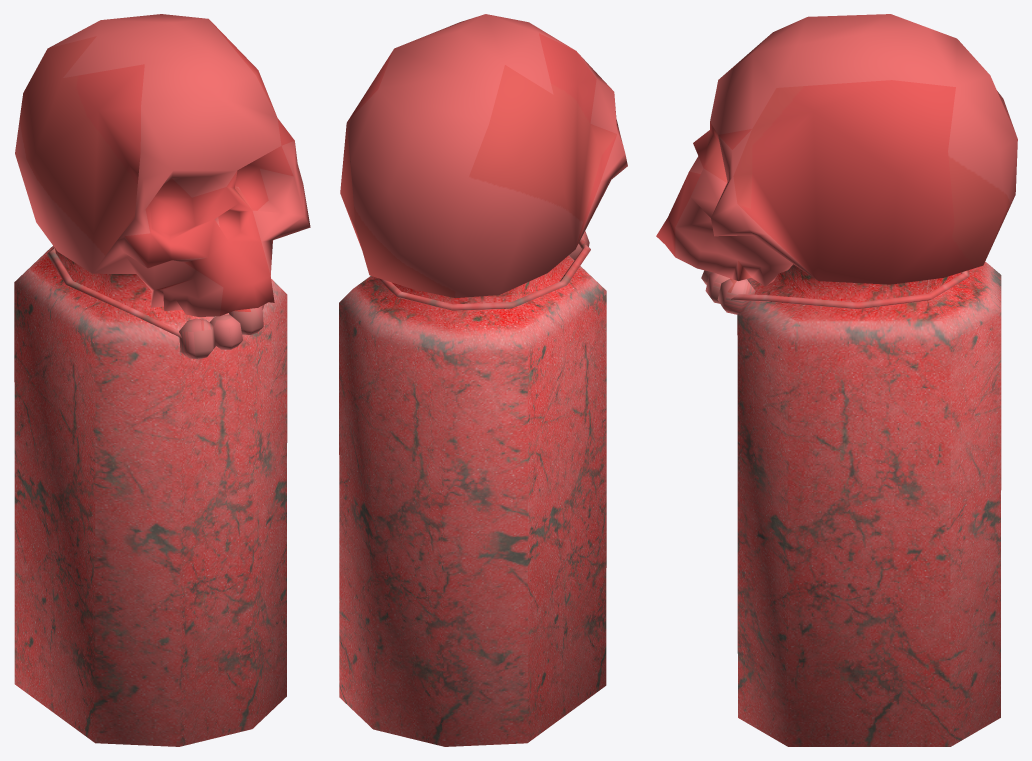
File: SM_Bottle_New.fbx
The picture shows the model from 3 angles, left to right: view 1: azimuth 30°, elevation 25°; view 2: azimuth 150°, elevation 25°; view 3: azimuth 270°, elevation 25°; orthographic projection. The views are drawn at different scales.
Visible parts, largest first — view 1: SM_Bottle; view 2: SM_Bottle; view 3: SM_Bottle.
Boxes of the visible parts, x1=… form: SM_Bottle: x1=14, y1=14, x2=310, y2=746; SM_Bottle: x1=339, y1=14, x2=627, y2=746; SM_Bottle: x1=656, y1=14, x2=1017, y2=746.
Bounding box in the file's own units: 222 × 667 × 325.
Materials: 1 (1 with a texture image).
